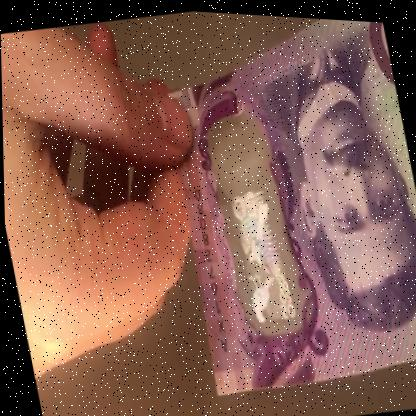50F: (212, 127, 301, 328)
